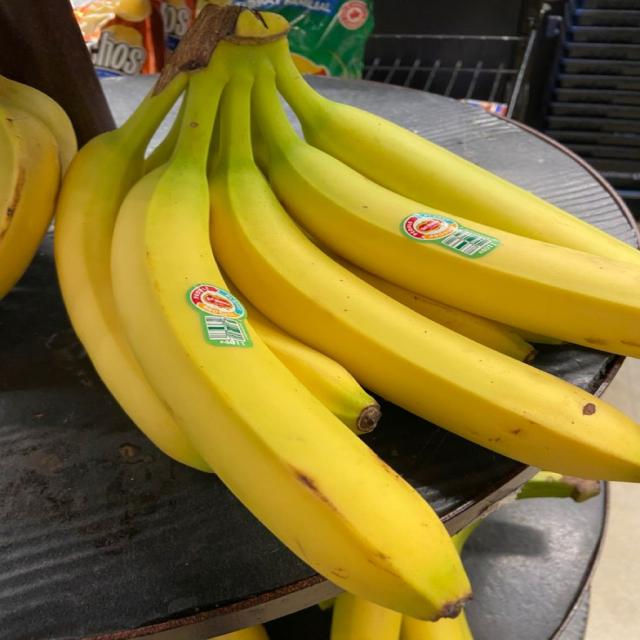unpeal banana: (112, 42, 469, 619), (212, 115, 639, 480), (257, 82, 639, 356), (273, 42, 639, 264), (54, 76, 210, 471), (224, 275, 380, 434), (332, 254, 535, 362), (0, 95, 60, 298), (0, 76, 77, 175), (330, 592, 403, 639), (400, 611, 473, 639), (210, 625, 268, 639)
